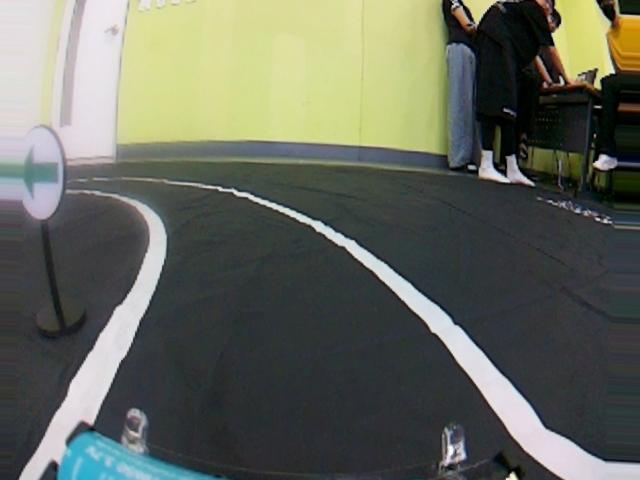sign_left: (10, 116, 76, 228)
straight: (80, 237, 562, 473)
